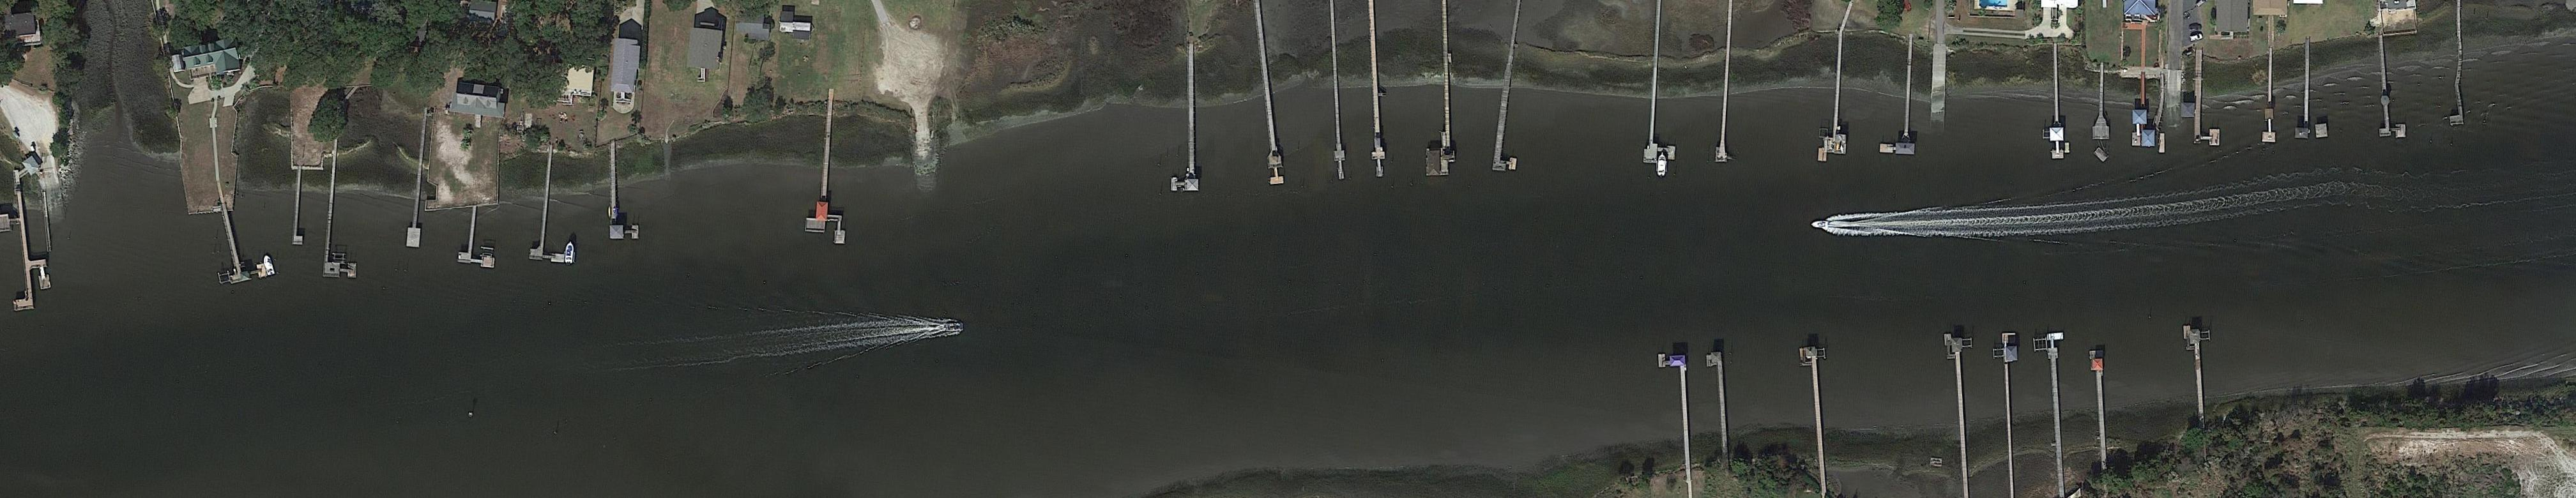harbor: (1492, 12, 1536, 174), (1250, 5, 1286, 186), (2, 189, 54, 311), (1643, 13, 1686, 163), (1943, 334, 1981, 498), (803, 120, 853, 243), (322, 156, 368, 278), (1426, 7, 1457, 178), (529, 151, 577, 263), (2045, 334, 2077, 486), (214, 201, 269, 284), (1819, 33, 1853, 163), (1879, 41, 1919, 154), (1658, 353, 1692, 478), (1171, 49, 1199, 192), (1364, 8, 1387, 178), (1801, 348, 1829, 482), (1326, 13, 1347, 181), (1715, 12, 1738, 164), (2372, 38, 2407, 140), (2438, 25, 2472, 125), (2001, 334, 2022, 495), (611, 145, 641, 240), (457, 205, 499, 268), (2183, 324, 2208, 429), (1705, 352, 1728, 459), (2090, 350, 2111, 463), (406, 156, 430, 248), (2195, 54, 2220, 146), (2131, 79, 2157, 146), (2049, 54, 2065, 159), (2262, 51, 2279, 143), (292, 168, 310, 245), (2295, 54, 2311, 138), (2093, 72, 2111, 140)
ship: (263, 253, 278, 276), (563, 240, 577, 265), (1658, 151, 1669, 176), (946, 320, 964, 334), (1809, 220, 1830, 228)
